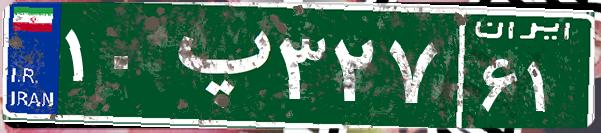0: (110, 28, 158, 105)
1: (57, 26, 110, 107), (525, 38, 570, 115)
2: (330, 28, 385, 110)
3: (273, 28, 330, 110)
6: (475, 38, 525, 113)
7: (385, 28, 445, 110)
پ: (158, 15, 273, 115)
